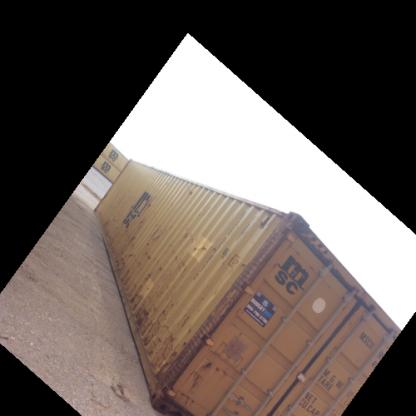Damage: (131, 298, 190, 383), (188, 360, 226, 393), (115, 251, 139, 293), (188, 241, 230, 257), (255, 213, 278, 232), (101, 212, 120, 233), (172, 248, 186, 272), (150, 223, 166, 241), (142, 242, 155, 262), (126, 225, 137, 248), (184, 184, 198, 198), (181, 225, 191, 240), (143, 273, 154, 285), (157, 264, 165, 272)
